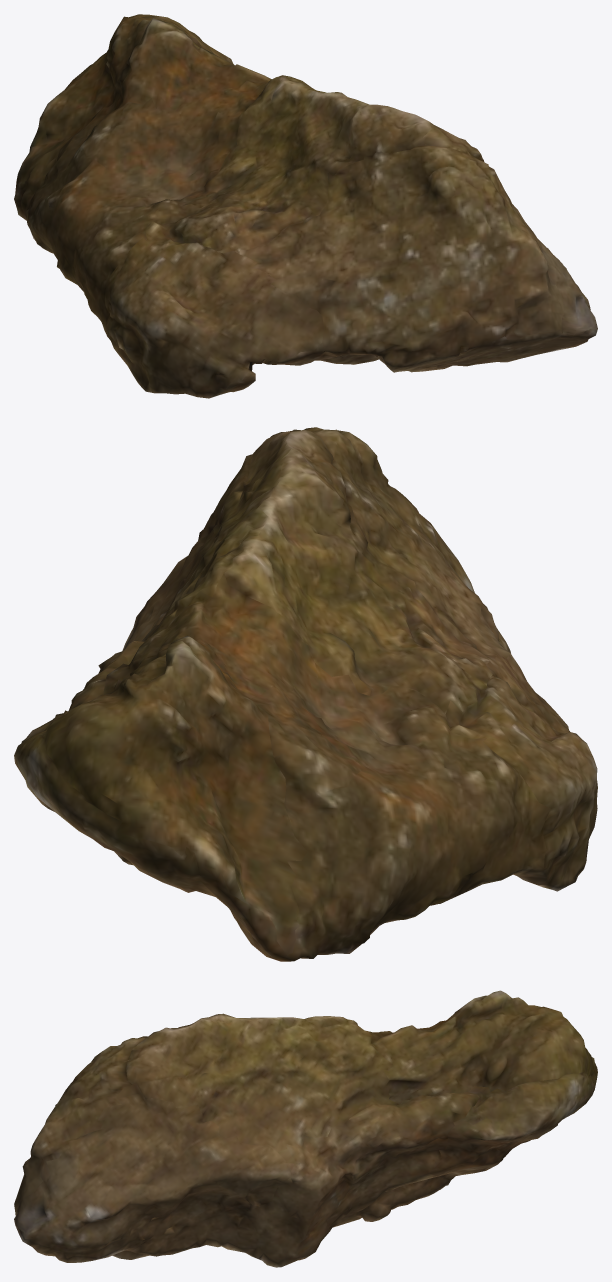
Rendered from rock_01.obj.
The picture shows the model from 3 angles, top to bottom: view 1: azimuth 30°, elevation 25°; view 2: azimuth 150°, elevation 25°; view 3: azimuth 270°, elevation 25°; orthographic projection. The views are drawn at different scales.
Visible parts, largest first — view 1: rock_moss_set_01_rock01; view 2: rock_moss_set_01_rock01; view 3: rock_moss_set_01_rock01.
Part boxes in pixels (x1=…): rock_moss_set_01_rock01: x1=14, y1=14, x2=597, y2=398; rock_moss_set_01_rock01: x1=14, y1=427, x2=597, y2=961; rock_moss_set_01_rock01: x1=14, y1=990, x2=597, y2=1267.
Size of the model in its own units: 2.24 by 1.47 by 3.37.
Materials: 1 (1 with a texture image).
